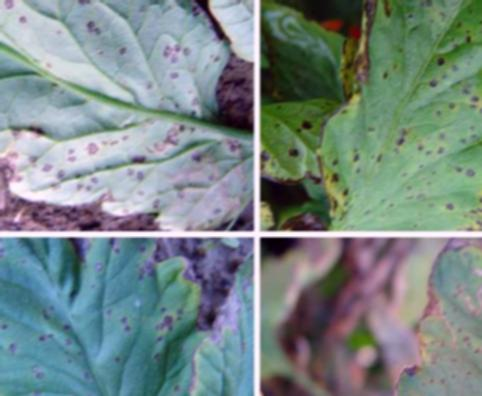Tomato leaf bacterial spot: (0, 0, 236, 225), (299, 0, 482, 233), (0, 242, 194, 396), (374, 239, 482, 396)
